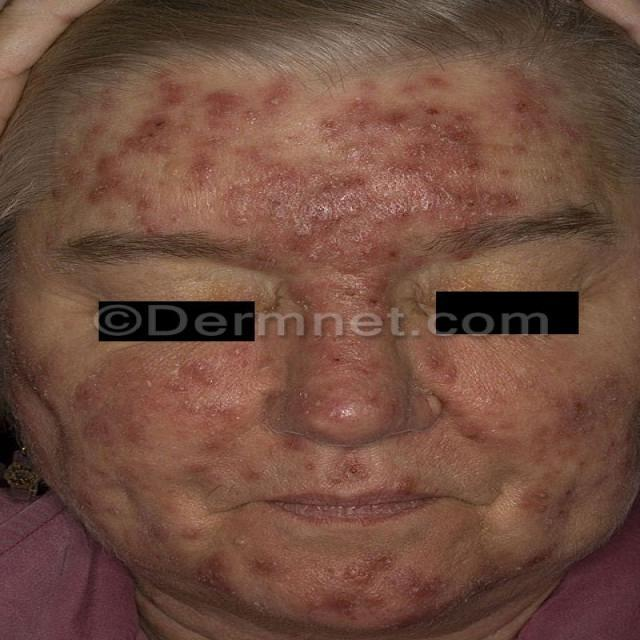acne: (128, 96, 490, 226), (216, 540, 454, 610), (514, 386, 622, 516), (104, 360, 230, 450)
